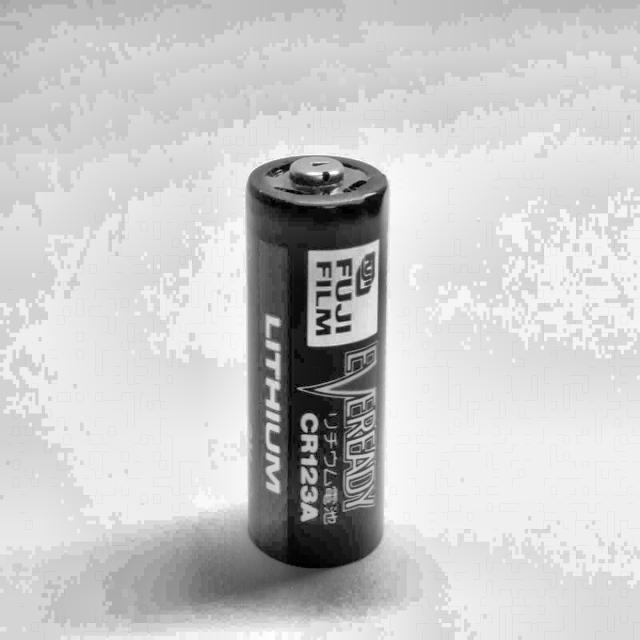drycell: (244, 140, 392, 572)
